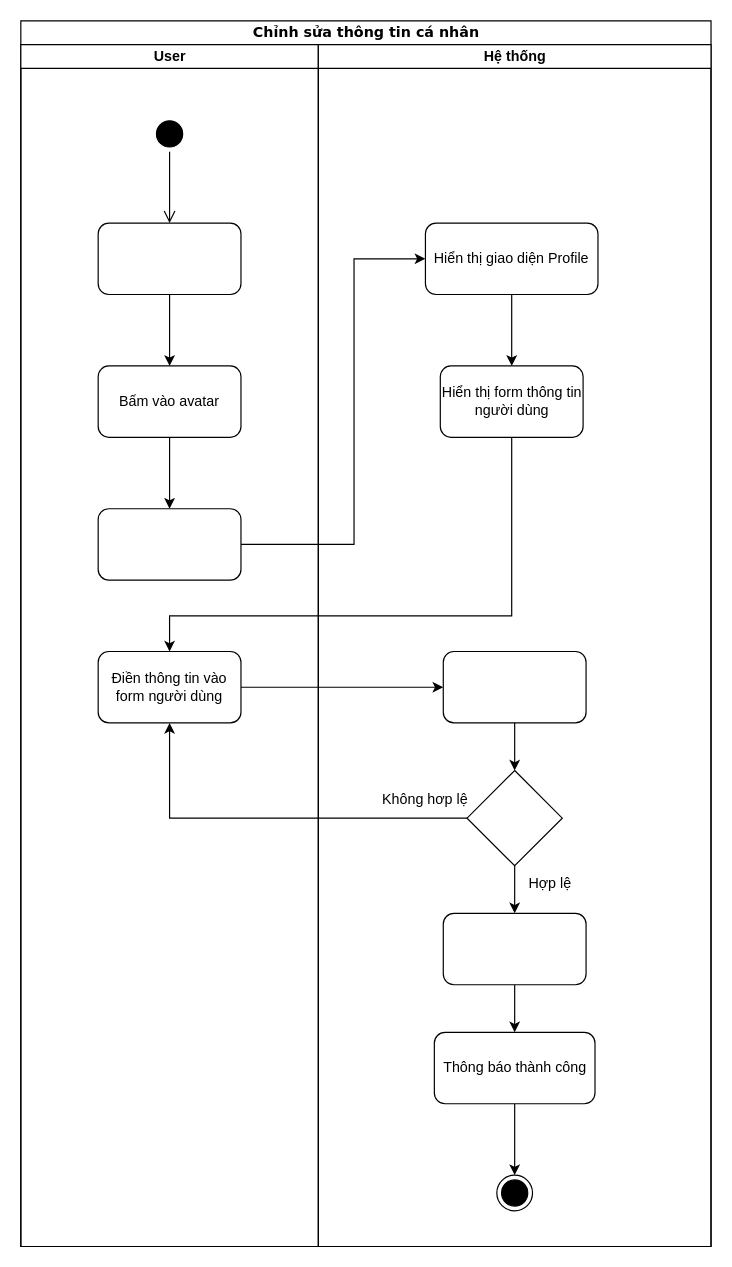
Image size: 732x1267. Some labels were removed from this diagram. Each missing label, with the box of its shape:
Bấm "Profile": (97, 508, 241, 580)
Hệ thống kiểm tra thông tin: (442, 650, 586, 723)
Lưu thông tin: (442, 912, 586, 985)
Đăng nhập: (97, 222, 241, 295)
